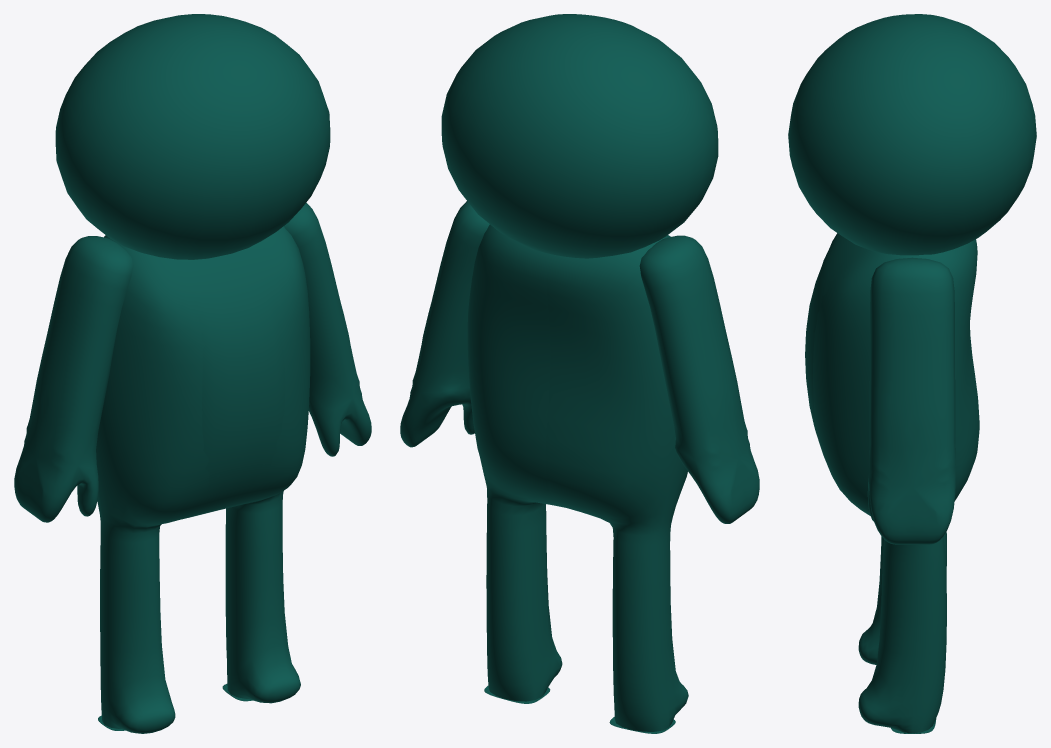
Rendered from madeByMe.glb.
The picture shows the model from 3 angles, left to right: view 1: azimuth 30°, elevation 25°; view 2: azimuth 150°, elevation 25°; view 3: azimuth 270°, elevation 25°; orthographic projection. The views are drawn at different scales.
Parts seen in each view (by area): view 1: Cube; view 2: Cube; view 3: Cube.
Part boxes in pixels (bbox=[...]): Cube: bbox=[14, 14, 371, 733]; Cube: bbox=[400, 14, 759, 733]; Cube: bbox=[788, 14, 1036, 733].
Bounding box in the file's own units: 0.468 × 0.9161 × 0.3116.
1 material, 1 textured.
